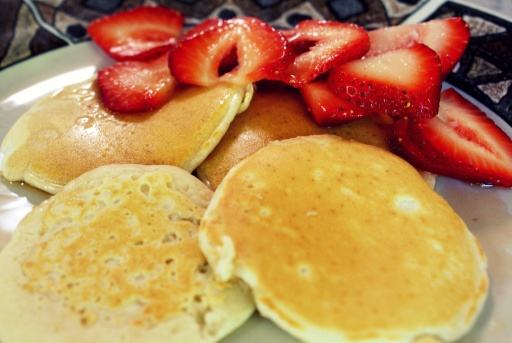background: (0, 2, 410, 183)
